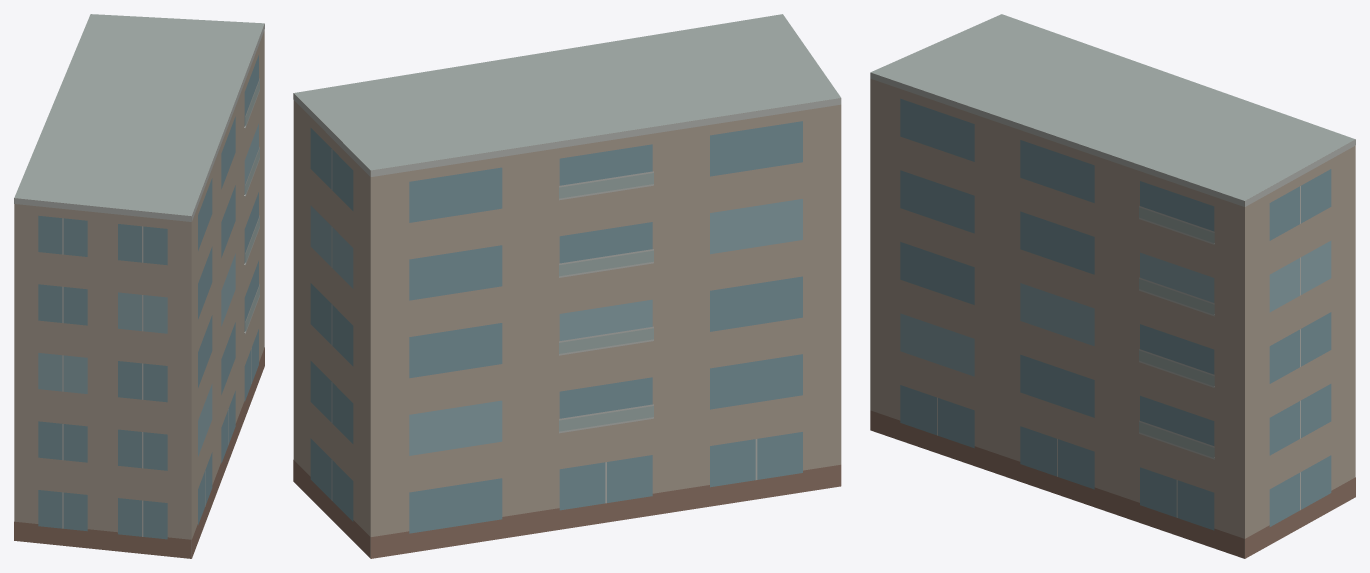
The model's file is survey-upis-32793489.glb.
3 renders of one model, left to right at view 1: azimuth 30°, elevation 25°; view 2: azimuth 150°, elevation 25°; view 3: azimuth 270°, elevation 25°, orthographic. The views are drawn at different scales.
Visible parts, largest first — view 1: survey-upis-32793489.tmp; view 2: survey-upis-32793489.tmp; view 3: survey-upis-32793489.tmp.
Boxes of the visible parts, bbox=[...] form: survey-upis-32793489.tmp: bbox=[14, 14, 264, 558]; survey-upis-32793489.tmp: bbox=[293, 14, 841, 558]; survey-upis-32793489.tmp: bbox=[870, 14, 1355, 558].
Bounding box in the file's own units: 15.98 × 14.25 × 17.53.
